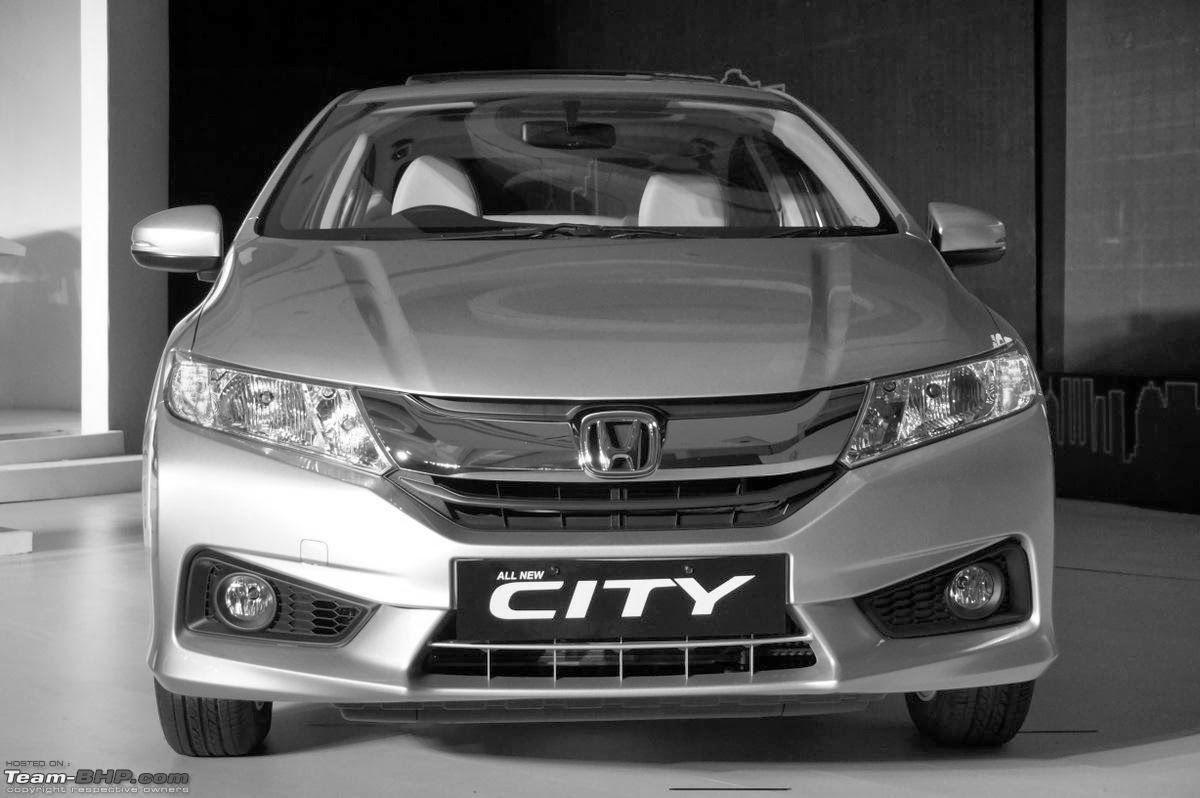Car hood: (175, 230, 1018, 399)
Front bumper: (135, 405, 1062, 714)
Headlight - -L-: (835, 343, 1044, 471)
Headlight - -R-: (166, 345, 396, 481)
Side mirror - -L-: (915, 198, 1009, 264)
Side mirror - -R-: (128, 199, 232, 282)
